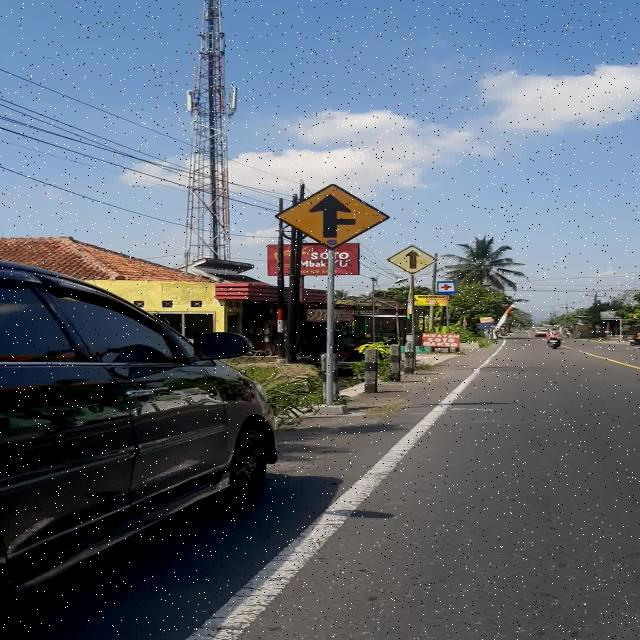Persimpangan 3 Prioritas Kanan: (274, 183, 390, 250)
